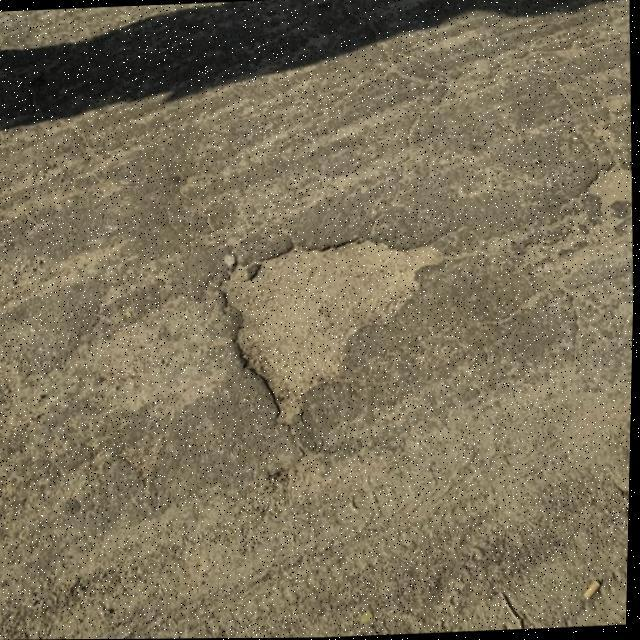pothole: (202, 226, 457, 432)
